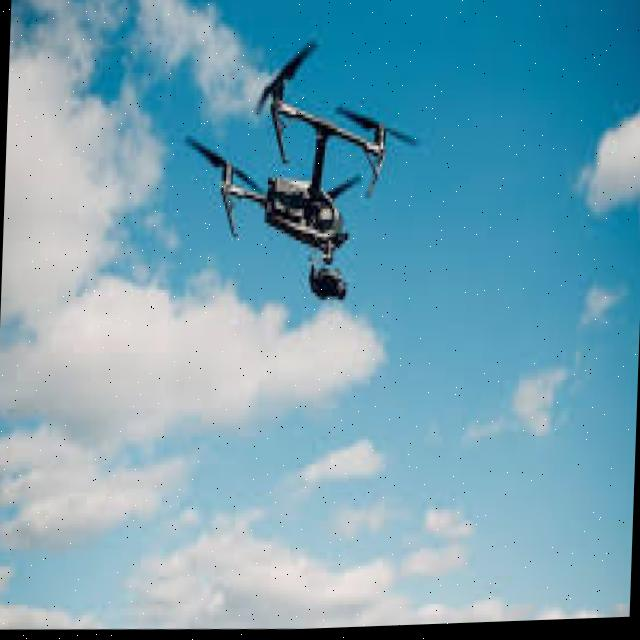drone: (180, 43, 428, 317)
